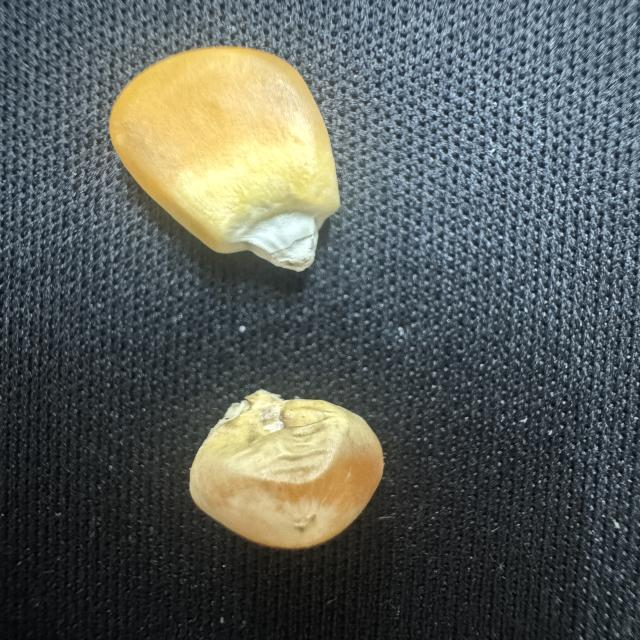Bad-Seed: (182, 383, 392, 555)
Good-Seed: (103, 41, 356, 280)
